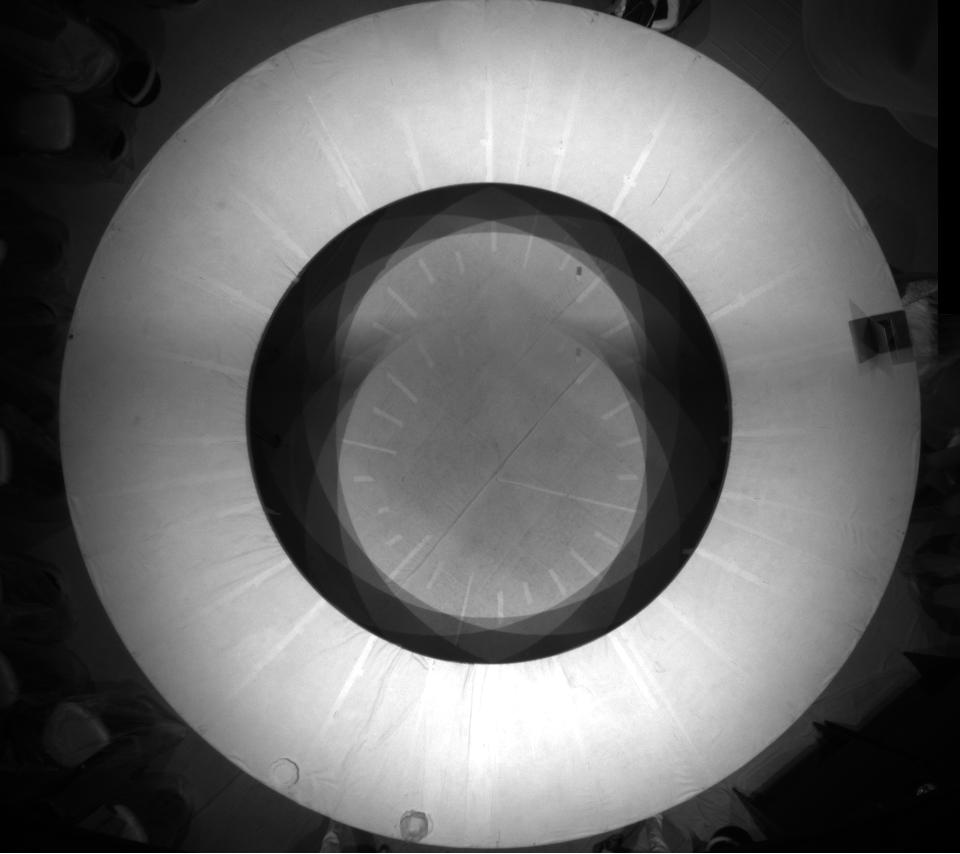Plate: (396, 805, 434, 847)
